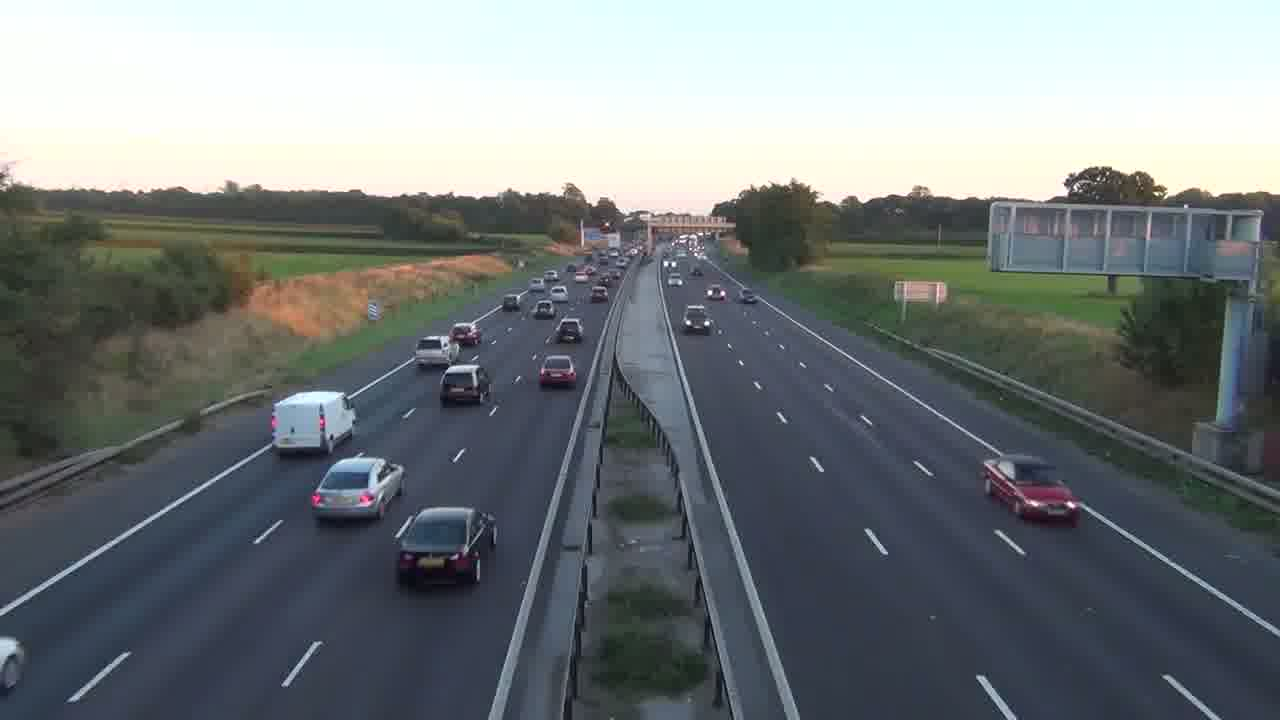car: (394, 505, 498, 588), (981, 456, 1082, 525), (309, 455, 405, 522), (439, 362, 487, 406), (0, 636, 28, 694), (537, 354, 578, 388), (415, 336, 454, 367), (449, 321, 481, 347), (553, 317, 584, 343), (706, 284, 726, 298)
truck: (272, 389, 356, 456)
